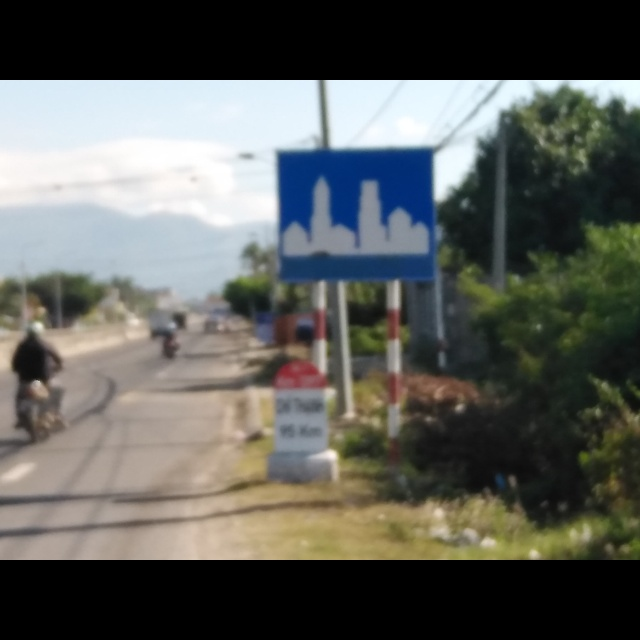Khu đông dân cư: (272, 136, 438, 284)
